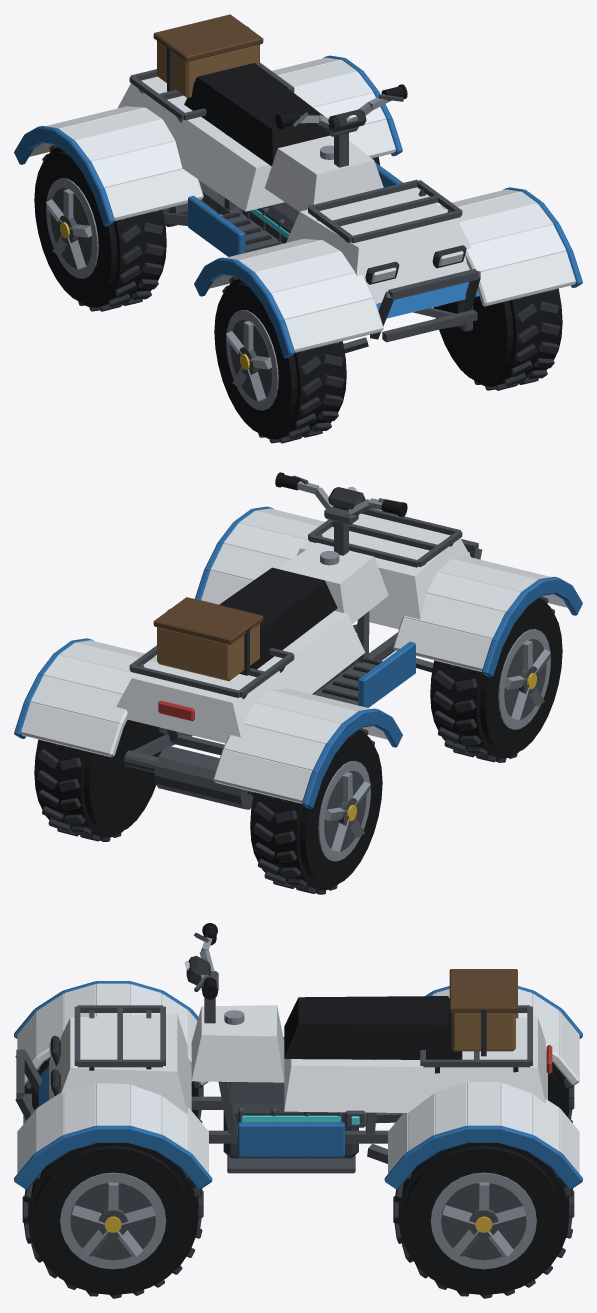
Rendered from quad_electrique.glb.
3 renders of one model, top to bottom at view 1: azimuth 30°, elevation 25°; view 2: azimuth 150°, elevation 25°; view 3: azimuth 270°, elevation 25°, orthographic. The views are drawn at different scales.
Visible parts, largest first — view 1: pieces_vert.002, pieces_acier_sombre.002, pieces_vert_fonce.002, pieces_noir.002, roue_arg_noir.002, roue_avg_noir.002, roue_avd_noir.002, pieces_bois_sombre.002, roue_avg_acier.002, roue_arg_acier.002, roue_avg_fonte.002, roue_arg_fonte.002 (+8 smaller); view 2: pieces_vert.002, pieces_acier_sombre.002, pieces_vert_fonce.002, roue_ard_noir.002, roue_arg_noir.002, roue_avg_noir.002, pieces_noir.002, pieces_bois.002, pieces_bois_sombre.002, roue_arg_acier.002, roue_avg_acier.002, roue_arg_fonte.002 (+6 smaller); view 3: pieces_vert.002, pieces_vert_fonce.002, roue_avd_noir.002, roue_ard_noir.002, pieces_acier_sombre.002, pieces_noir.002, roue_avd_acier.002, roue_ard_acier.002, roue_avd_acier_sombre.002, roue_ard_acier_sombre.002, pieces_bois_sombre.002, pieces_quad_batterie.002 (+7 smaller).
Boxes of the visible parts, x1,y1,x2,y2 form: pieces_vert.002: (29,57,575,352); pieces_acier_sombre.002: (129,63,480,353); pieces_vert_fonce.002: (14,55,582,358); pieces_noir.002: (184,63,407,166); roue_arg_noir.002: (34,147,166,307); roue_avg_noir.002: (214,279,346,439); roue_avd_noir.002: (433,288,562,386); pieces_bois_sombre.002: (153,14,263,62); roue_avg_acier.002: (226,310,278,410); roue_arg_acier.002: (46,178,98,278); roue_avg_fonte.002: (222,276,344,443); roue_arg_fonte.002: (42,144,164,311); pieces_vert.002: (21,508,567,803); pieces_acier_sombre.002: (124,475,482,809); pieces_vert_fonce.002: (14,506,582,809); roue_ard_noir.002: (34,719,165,837); roue_arg_noir.002: (250,730,382,890); roue_avg_noir.002: (430,598,562,758); pieces_noir.002: (219,472,407,669); pieces_bois.002: (157,623,259,681); pieces_bois_sombre.002: (153,597,263,644); roue_arg_acier.002: (318,761,370,861); roue_avg_acier.002: (498,629,550,729); roue_arg_fonte.002: (252,728,374,894); pieces_vert.002: (17,983,579,1173); pieces_vert_fonce.002: (14,981,582,1189); roue_avd_noir.002: (27,1143,198,1294); roue_ard_noir.002: (398,1143,569,1294); pieces_acier_sombre.002: (15,932,532,1173); pieces_noir.002: (202,923,462,1059); roue_avd_acier.002: (60,1172,166,1269); roue_ard_acier.002: (430,1172,536,1269); roue_avd_acier_sombre.002: (70,1183,155,1260); roue_ard_acier_sombre.002: (441,1183,526,1260); pieces_bois_sombre.002: (449,969,517,1013); pieces_quad_batterie.002: (223,1082,358,1158).
Size of the model in its own units: 1.23 by 1.08 by 2.
